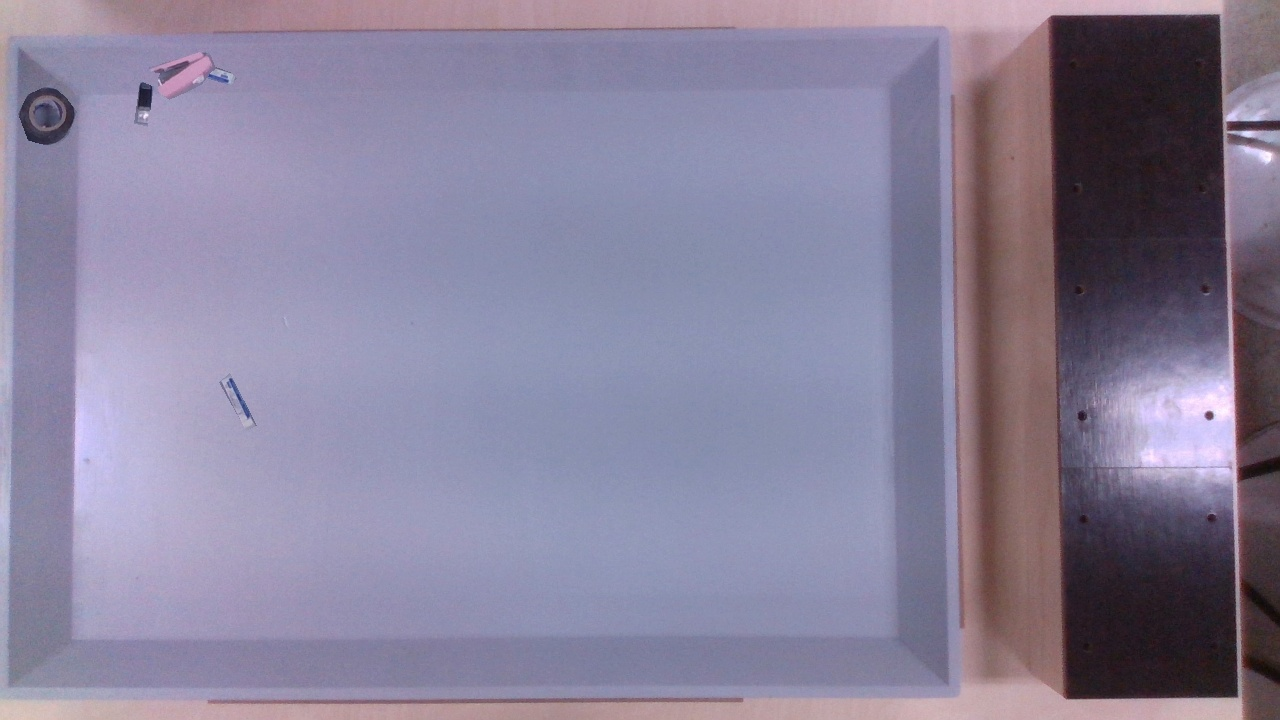Eraser_small: (183, 55, 256, 430)
Stapler_pink: (149, 51, 215, 99)
Tape_black: (18, 84, 76, 147)
Usb_small: (134, 81, 153, 126)
